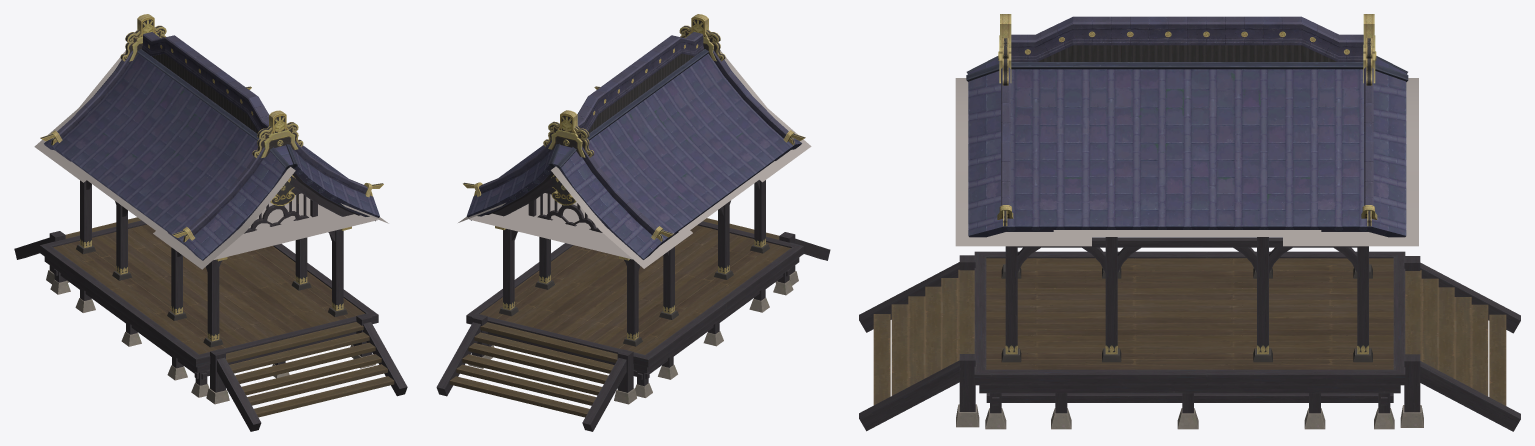
Rendered from Homeworld_Exterior_Dq_Build_House_22_Lod0.fbx.
3 renders of one model, left to right at view 1: azimuth 30°, elevation 25°; view 2: azimuth 150°, elevation 25°; view 3: azimuth 270°, elevation 25°, orthographic. The views are drawn at different scales.
Visible parts, largest first — view 1: Area_Dq_Build_MS_TsgPlatform_04_Lod0, Area_Dq_Build_MS_FxHouse_03_Lod0 (×2), Area_Dq_Build_MS_FxHouse_02_Lod0, Area_Dq_Stairs_MS_Tsg_01_Vo, Area_Dq_Build_MS_FxHouse_03_Ocl (×2), Area_Dq_Stairs_MS_Tsg_01_Vo (1), Area_Dq_Build_MS_FxHouse_02_Ocl; view 2: Area_Dq_Build_MS_TsgPlatform_04_Lod0, Area_Dq_Build_MS_FxHouse_03_Lod0 (×2), Area_Dq_Build_MS_FxHouse_02_Lod0, Area_Dq_Stairs_MS_Tsg_01_Vo (1), Area_Dq_Build_MS_FxHouse_03_Ocl (×2), Area_Dq_Stairs_MS_Tsg_01_Vo, Area_Dq_Build_MS_FxHouse_02_Ocl; view 3: Area_Dq_Build_MS_TsgPlatform_04_Lod0, Area_Dq_Build_MS_FxHouse_02_Lod0, Area_Dq_Build_MS_FxHouse_03_Lod0 (×2), Area_Dq_Stairs_MS_Tsg_01_Vo, Area_Dq_Stairs_MS_Tsg_01_Vo (1), Area_Dq_Build_MS_FxHouse_03_Ocl (×2), Area_Dq_Build_MS_FxHouse_02_Ocl.
Boxes of the visible parts, x1,y1,x2,y2 form: Area_Dq_Build_MS_TsgPlatform_04_Lod0: (40,220,378,397); Area_Dq_Build_MS_FxHouse_03_Lod0 (×2): (40,14,383,347); Area_Dq_Build_MS_FxHouse_02_Lod0: (76,35,346,320); Area_Dq_Stairs_MS_Tsg_01_Vo: (206,313,407,431); Area_Dq_Build_MS_FxHouse_03_Ocl (×2): (34,51,388,269); Area_Dq_Stairs_MS_Tsg_01_Vo (1): (14,217,141,284); Area_Dq_Build_MS_FxHouse_02_Ocl: (66,161,301,235); Area_Dq_Build_MS_TsgPlatform_04_Lod0: (466,221,803,397); Area_Dq_Build_MS_FxHouse_03_Lod0 (×2): (463,14,805,346); Area_Dq_Build_MS_FxHouse_02_Lod0: (499,35,769,319); Area_Dq_Stairs_MS_Tsg_01_Vo (1): (436,313,636,431); Area_Dq_Build_MS_FxHouse_03_Ocl (×2): (458,50,811,268); Area_Dq_Stairs_MS_Tsg_01_Vo: (703,218,830,285); Area_Dq_Build_MS_FxHouse_02_Ocl: (545,161,779,235); Area_Dq_Build_MS_TsgPlatform_04_Lod0: (974,251,1405,429); Area_Dq_Build_MS_FxHouse_02_Lod0: (1073,16,1301,362); Area_Dq_Build_MS_FxHouse_03_Lod0 (×2): (966,14,1408,362); Area_Dq_Stairs_MS_Tsg_01_Vo: (859,255,979,431); Area_Dq_Stairs_MS_Tsg_01_Vo (1): (1400,256,1520,431); Area_Dq_Build_MS_FxHouse_03_Ocl (×2): (955,78,1418,246); Area_Dq_Build_MS_FxHouse_02_Ocl: (1053,230,1321,236).
Size of the model in its own units: 9.91 by 11.85 by 19.54.
